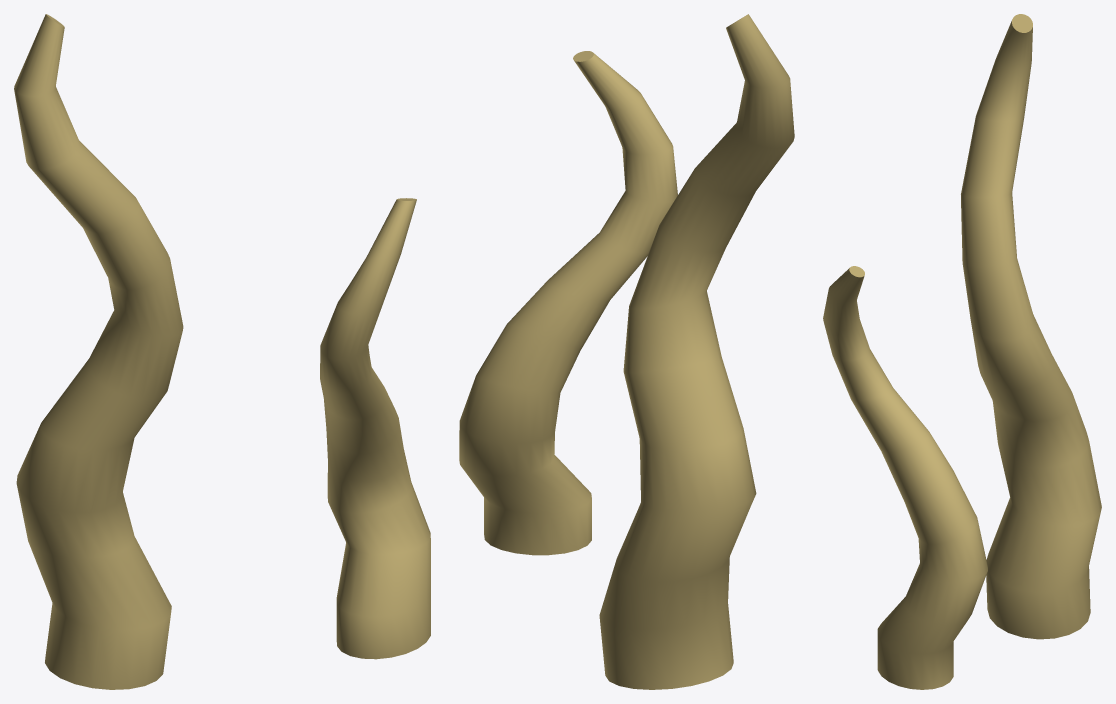
File: mesh_plantstage01_var04.fbx
The picture shows the model from 3 angles, left to right: view 1: azimuth 30°, elevation 25°; view 2: azimuth 150°, elevation 25°; view 3: azimuth 270°, elevation 25°; orthographic projection. The views are drawn at different scales.
Visible parts, largest first — view 1: mesh_plantstage01_var04; view 2: mesh_plantstage01_var04; view 3: mesh_plantstage01_var04.
Boxes of the visible parts, x1,y1,x2,y2 form: mesh_plantstage01_var04: (14, 14, 430, 689); mesh_plantstage01_var04: (459, 14, 794, 689); mesh_plantstage01_var04: (823, 14, 1101, 689).
Bounding box in the file's own units: 0.3146 × 0.5533 × 0.2432.
